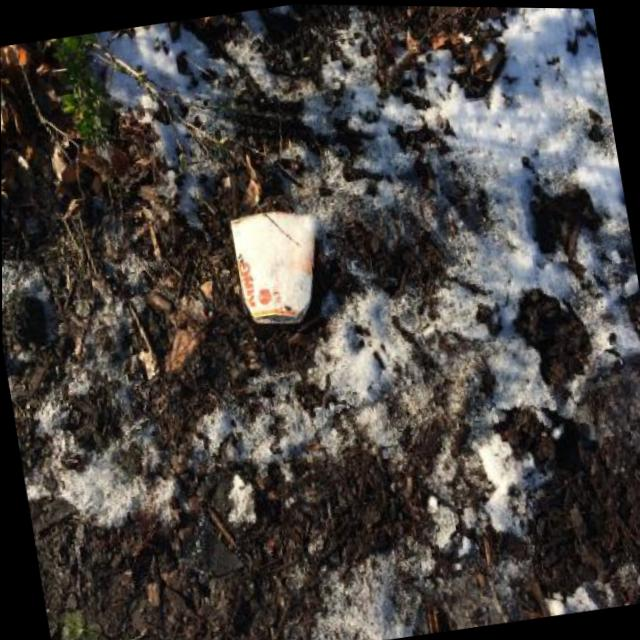cardboard: (225, 202, 333, 335)
